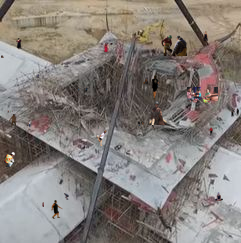Human: (161, 35, 187, 56), (187, 87, 218, 104), (147, 101, 167, 125), (143, 75, 159, 100), (96, 130, 119, 146), (51, 200, 63, 219), (4, 152, 15, 167), (9, 114, 20, 128), (98, 43, 113, 53), (208, 126, 220, 136), (16, 38, 23, 50), (231, 108, 239, 117), (215, 192, 223, 201), (78, 87, 88, 93), (203, 31, 208, 41), (138, 121, 147, 126), (151, 119, 155, 129), (27, 120, 31, 130), (37, 202, 44, 207), (64, 193, 69, 200), (4, 110, 13, 113), (95, 126, 99, 129), (37, 74, 39, 79), (1, 55, 4, 58)
